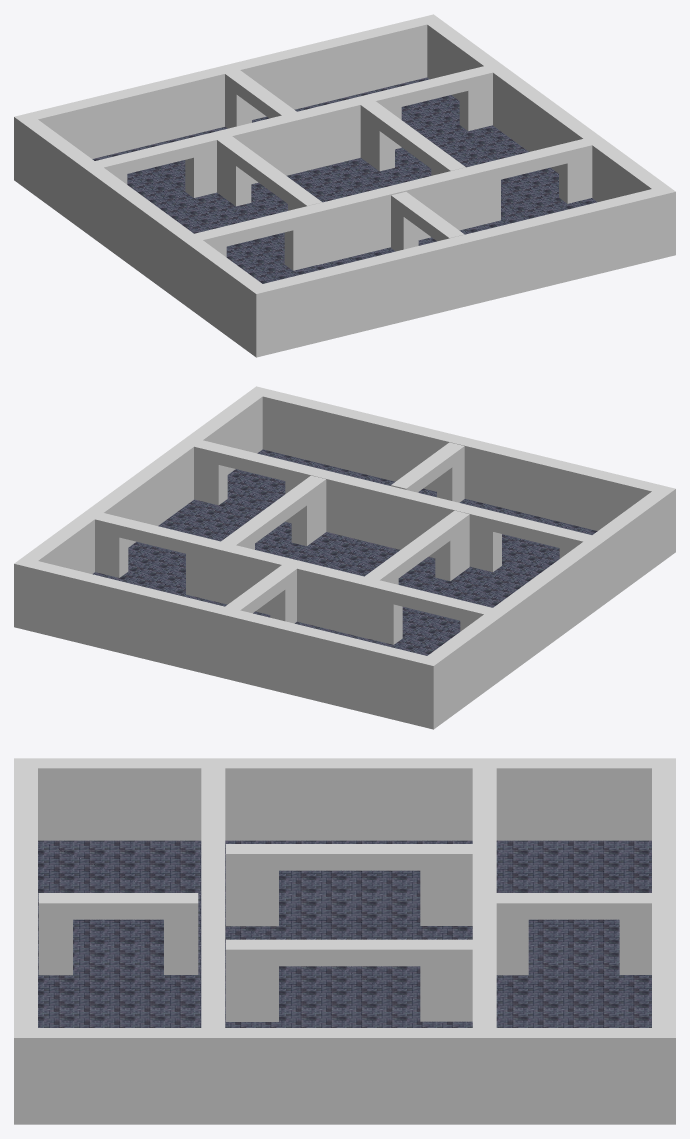
File: Map01.fbx
The picture shows the model from 3 angles, top to bottom: view 1: azimuth 30°, elevation 25°; view 2: azimuth 150°, elevation 25°; view 3: azimuth 270°, elevation 25°; orthographic projection. The views are drawn at different scales.
Visible parts, largest first — view 1: wall, wall.03, feald, wall.02, wall.01, wall.005, wall.004, Cube.001, Cube.002, Cube.003, Cube.004, Cube.005 (+3 smaller); view 2: wall.03, wall, feald, wall.02, wall.01, wall.004, wall.005, Cube.002, Cube.001, Cube.004, Cube, Cube.005 (+3 smaller); view 3: feald, wall.01, wall.02, Cube.004, Cube.005, wall, Cube.007, Cube.006, wall.03, wall.005, wall.004, Cube (+3 smaller).
Boxes of the visible parts, left/top/right/bottom form: wall: left=254, top=185, right=675, bottom=357; wall.03: left=14, top=15, right=434, bottom=186; feald: left=92, top=77, right=597, bottom=283; wall.02: left=14, top=113, right=271, bottom=357; wall.01: left=419, top=14, right=675, bottom=238; wall.005: left=309, top=167, right=477, bottom=264; wall.004: left=210, top=94, right=377, bottom=184; Cube.001: left=469, top=139, right=592, bottom=225; Cube.002: left=369, top=66, right=492, bottom=149; Cube.003: left=194, top=206, right=317, bottom=270; Cube.004: left=360, top=101, right=465, bottom=175; Cube.005: left=217, top=136, right=322, bottom=210; wall.03: left=14, top=560, right=442, bottom=729; wall: left=248, top=386, right=675, bottom=530; feald: left=92, top=449, right=597, bottom=655; wall.02: left=418, top=489, right=675, bottom=729; wall.01: left=14, top=387, right=270, bottom=630; wall.004: left=210, top=541, right=376, bottom=638; wall.005: left=309, top=468, right=476, bottom=558; Cube.002: left=95, top=513, right=217, bottom=600; Cube.001: left=194, top=440, right=318, bottom=523; Cube.004: left=221, top=475, right=326, bottom=549; Cube: left=369, top=580, right=492, bottom=644; Cube.005: left=365, top=510, right=469, bottom=584; feald: left=38, top=840, right=651, bottom=1027; wall.01: left=14, top=1028, right=675, bottom=1124; wall.02: left=14, top=758, right=675, bottom=840; Cube.004: left=226, top=939, right=472, bottom=1021; Cube.005: left=226, top=844, right=473, bottom=926; wall: left=14, top=758, right=37, bottom=1124; Cube.007: left=38, top=893, right=198, bottom=975; Cube.006: left=494, top=893, right=653, bottom=975; wall.03: left=652, top=758, right=675, bottom=1037; wall.005: left=201, top=845, right=225, bottom=951; wall.004: left=472, top=845, right=496, bottom=951; Cube: left=472, top=767, right=496, bottom=845.
Size of the model in its own units: 1660 by 240 by 1660.
